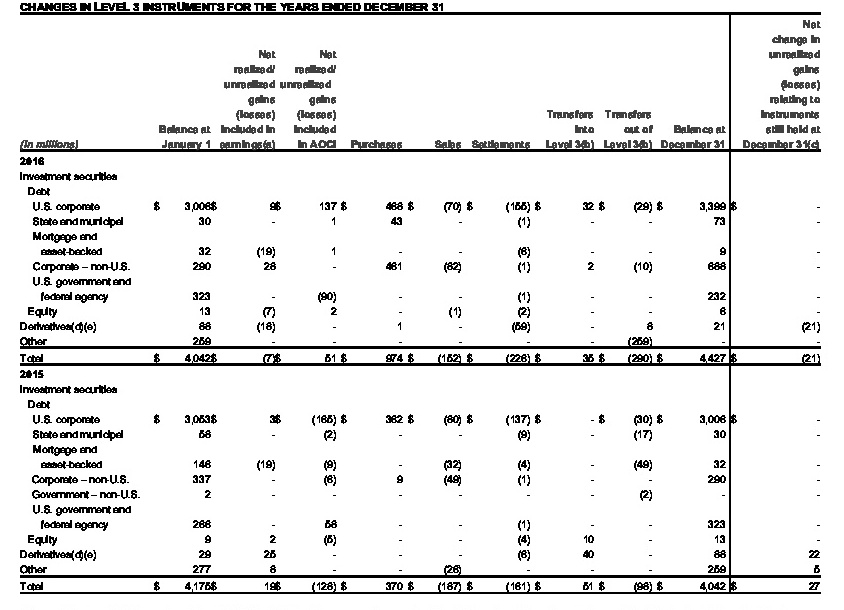table: (0, 0, 844, 610)
